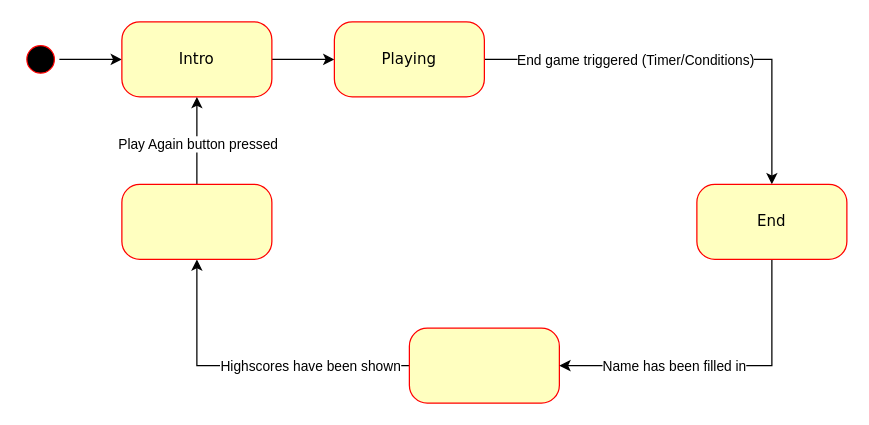
This 869x425 diagram has some shape labels left out. The box of each missing label's shape, as (x1, y1, x2, y2) in pixels:
HighScores: (408, 327, 559, 403)
PlayAgain: (121, 183, 272, 259)
